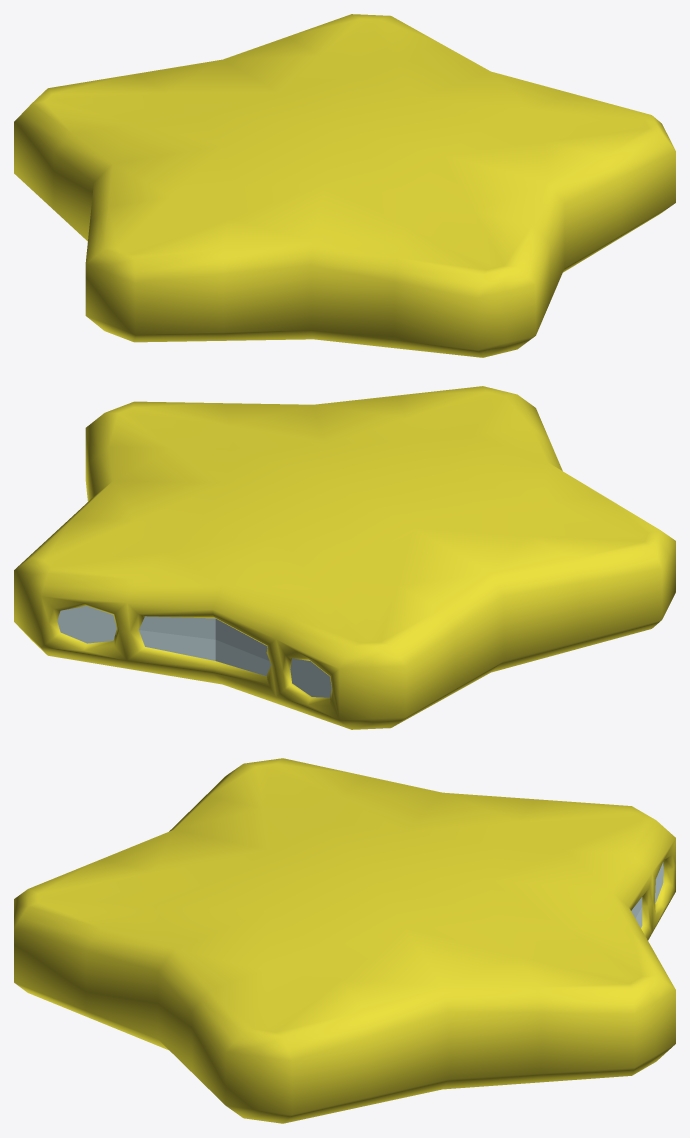
File: warpstar.fbx
3 renders of one model, top to bottom at view 1: azimuth 30°, elevation 25°; view 2: azimuth 150°, elevation 25°; view 3: azimuth 270°, elevation 25°, orthographic. The views are drawn at different scales.
Parts seen in each view (by area): view 1: Cube; view 2: Cube; view 3: Cube.
Part boxes in pixels (left/top/right/bottom): Cube: left=14, top=14, right=675, bottom=357; Cube: left=14, top=386, right=675, bottom=729; Cube: left=14, top=758, right=675, bottom=1123.
Bounding box in the file's own units: 175 × 39.75 × 167.
